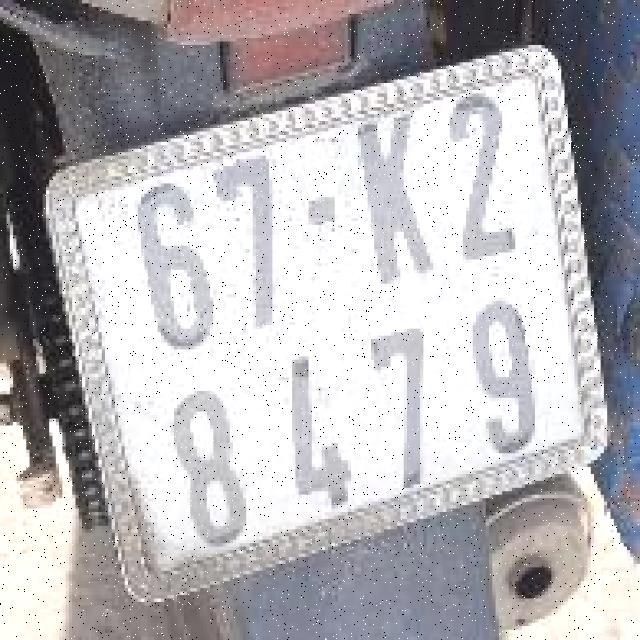2: (440, 85, 525, 268)
4: (279, 353, 354, 508)
6: (133, 176, 218, 353)
7: (364, 320, 443, 496), (217, 150, 286, 330)
8: (170, 386, 250, 552)
9: (463, 298, 548, 460)
K: (345, 107, 433, 287)
